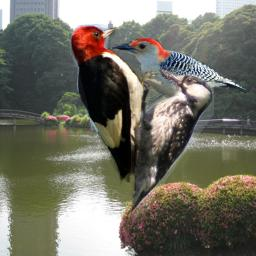Woodpecker: (69, 24, 167, 185), (131, 66, 214, 220), (112, 38, 246, 111)
